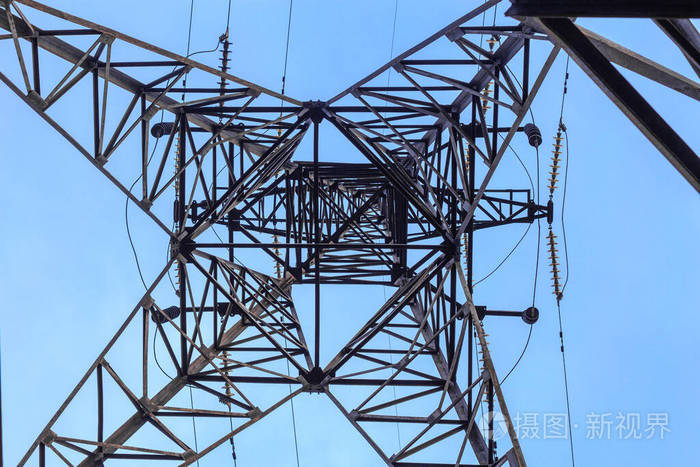insulator: (479, 38, 498, 110), (547, 133, 564, 190), (547, 234, 562, 295), (218, 351, 235, 401), (218, 40, 232, 86)
